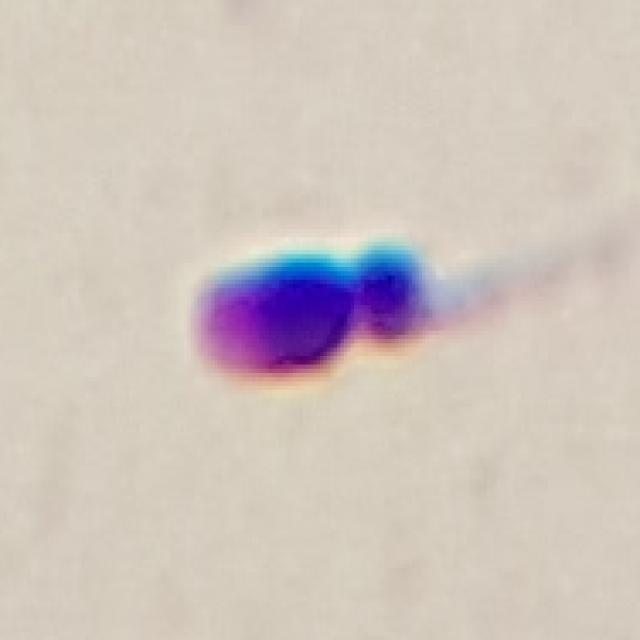abnormal sperm: (190, 234, 575, 386)
